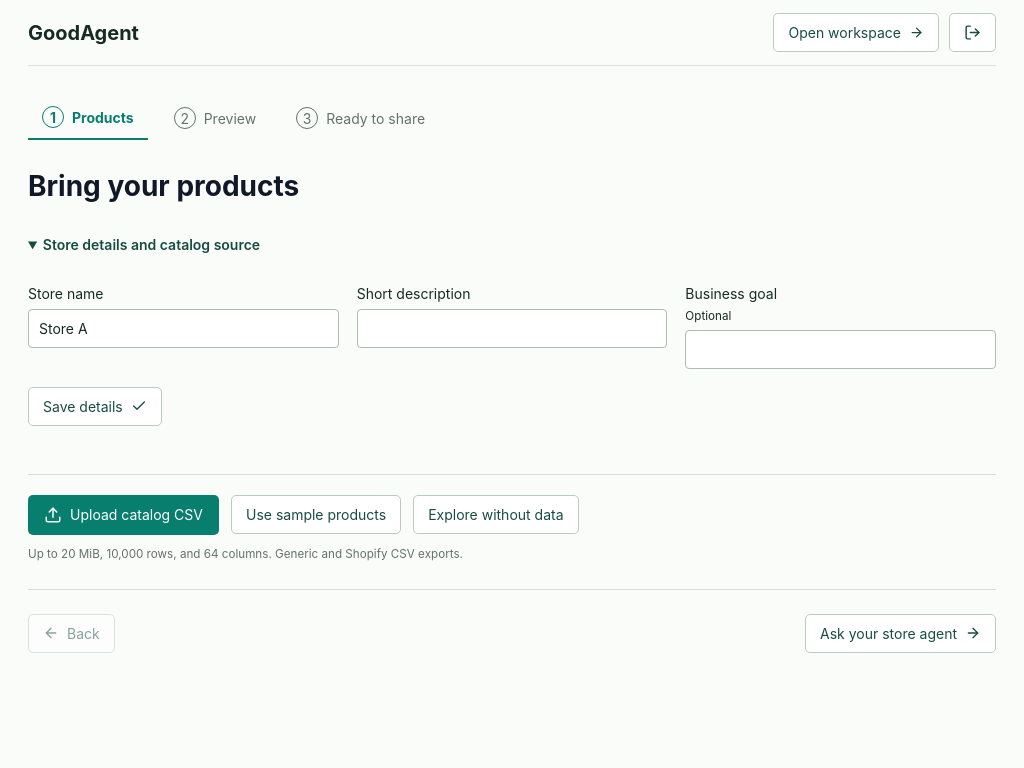
Test case: StoreAccess request intent and explicit recovery › rejects stale profile edits and remounts fresh fields only after explicit discovery
Replace the text in the field labelled "Store name" with "A unsaved draft" at (183, 328), box [28,309,339,348]
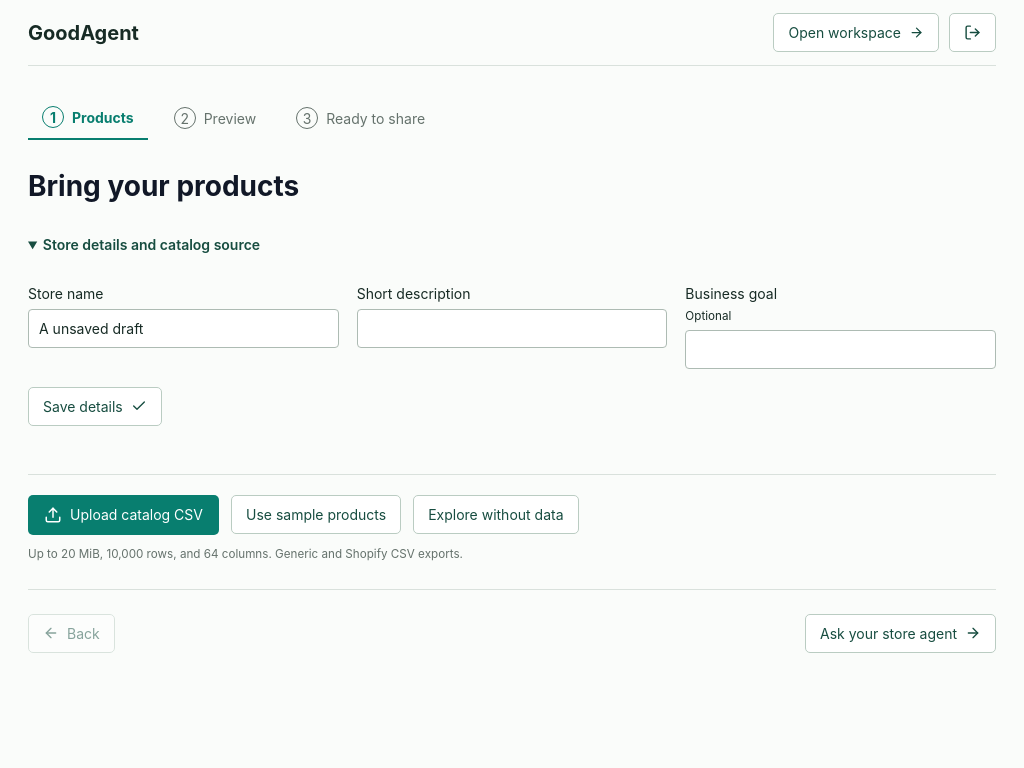
Click the button "Save details" at (95, 406), box [28,387,162,426]
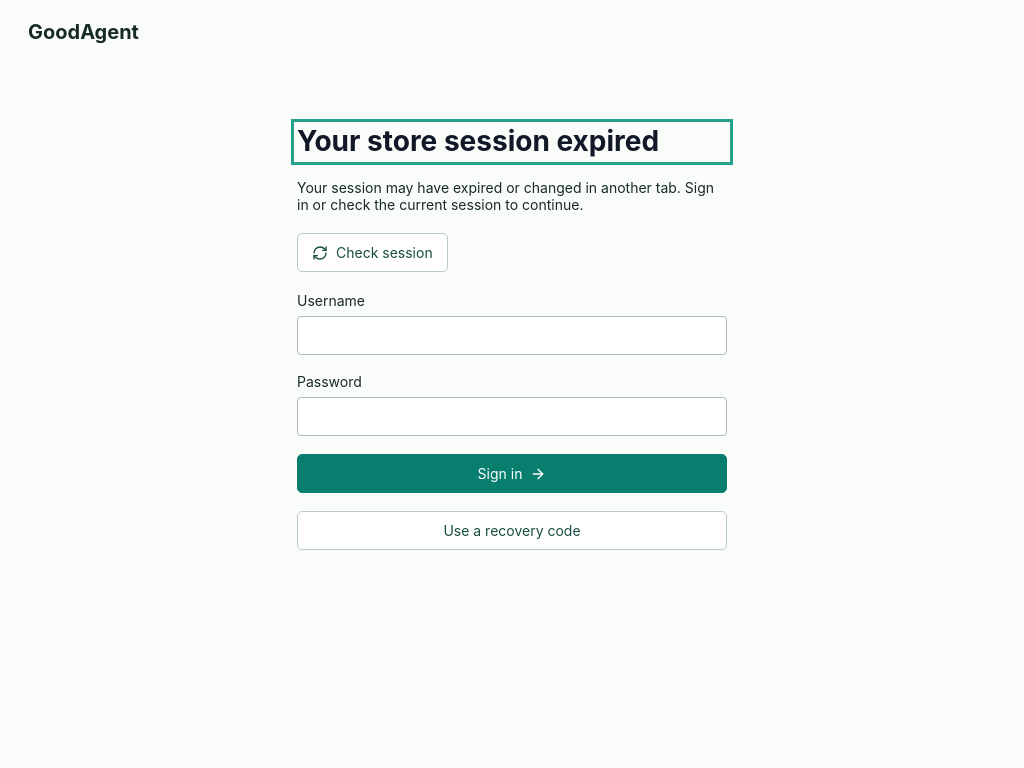
Expected: the button "Check session" is enabled
Expected: the label labelled "Store name" is gone
Click the button "Check session" at (372, 252), box [297,233,448,272]
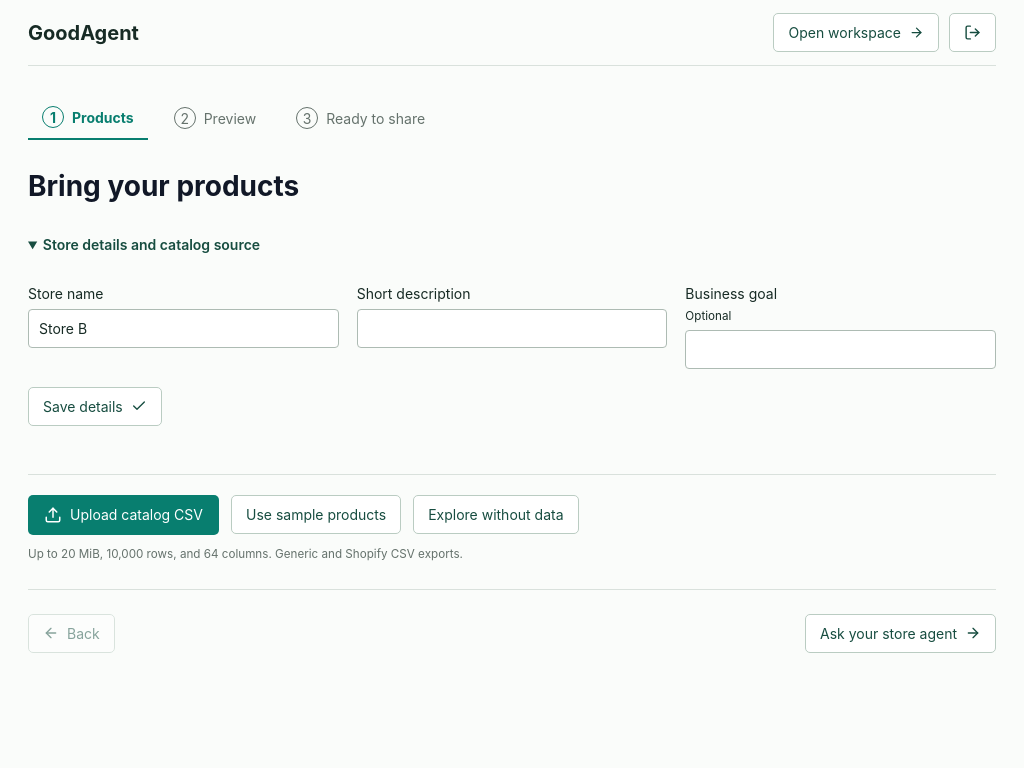
Expected: the field labelled "Store name" holds "Store B", [28,309,339,348]
